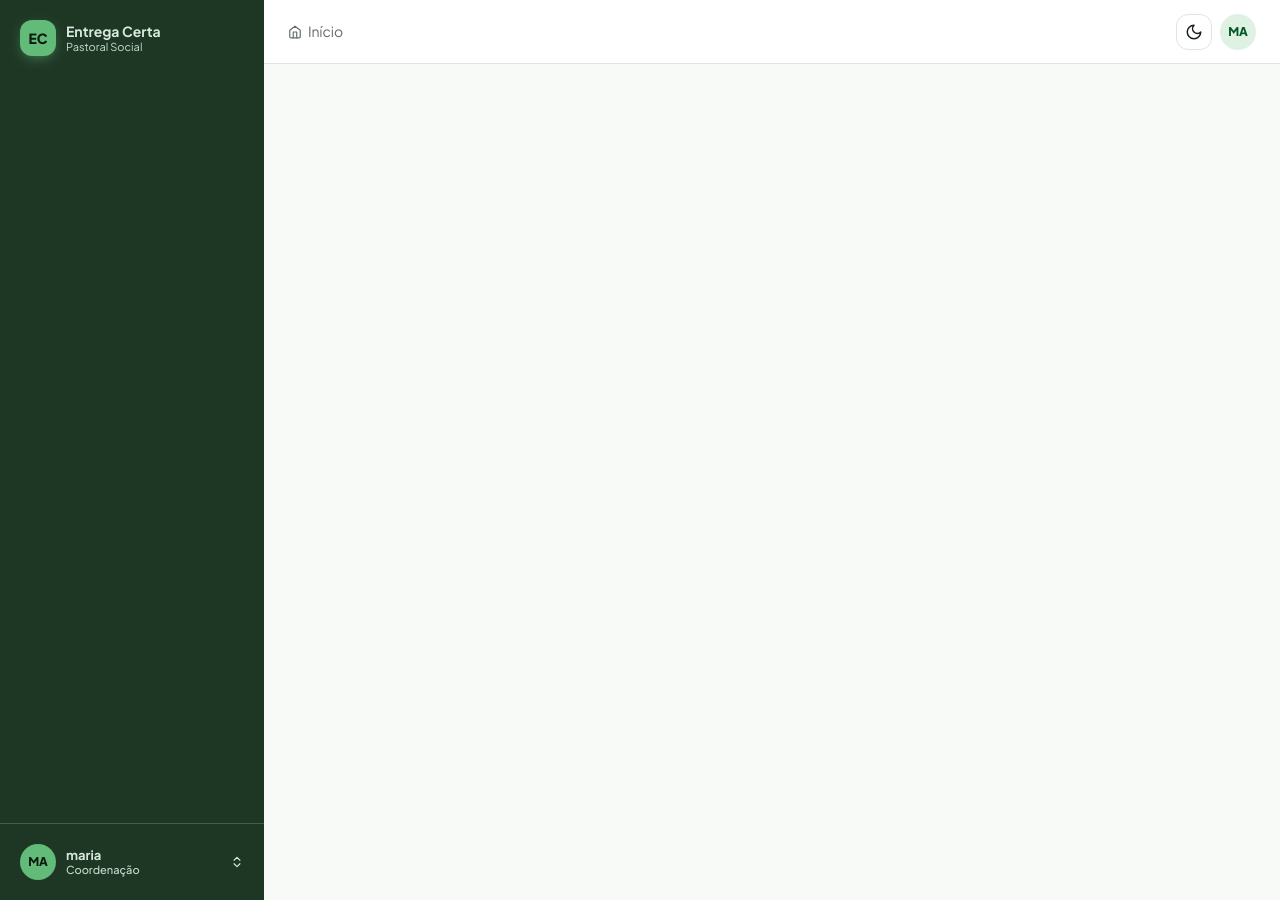
Scenario: menu lateral: visibilidade por permissão › abre o menu do usuário com alterar senha, tema e sair
Click the button with class "shell-user__trigger": (132, 862) [12,836,252,888]
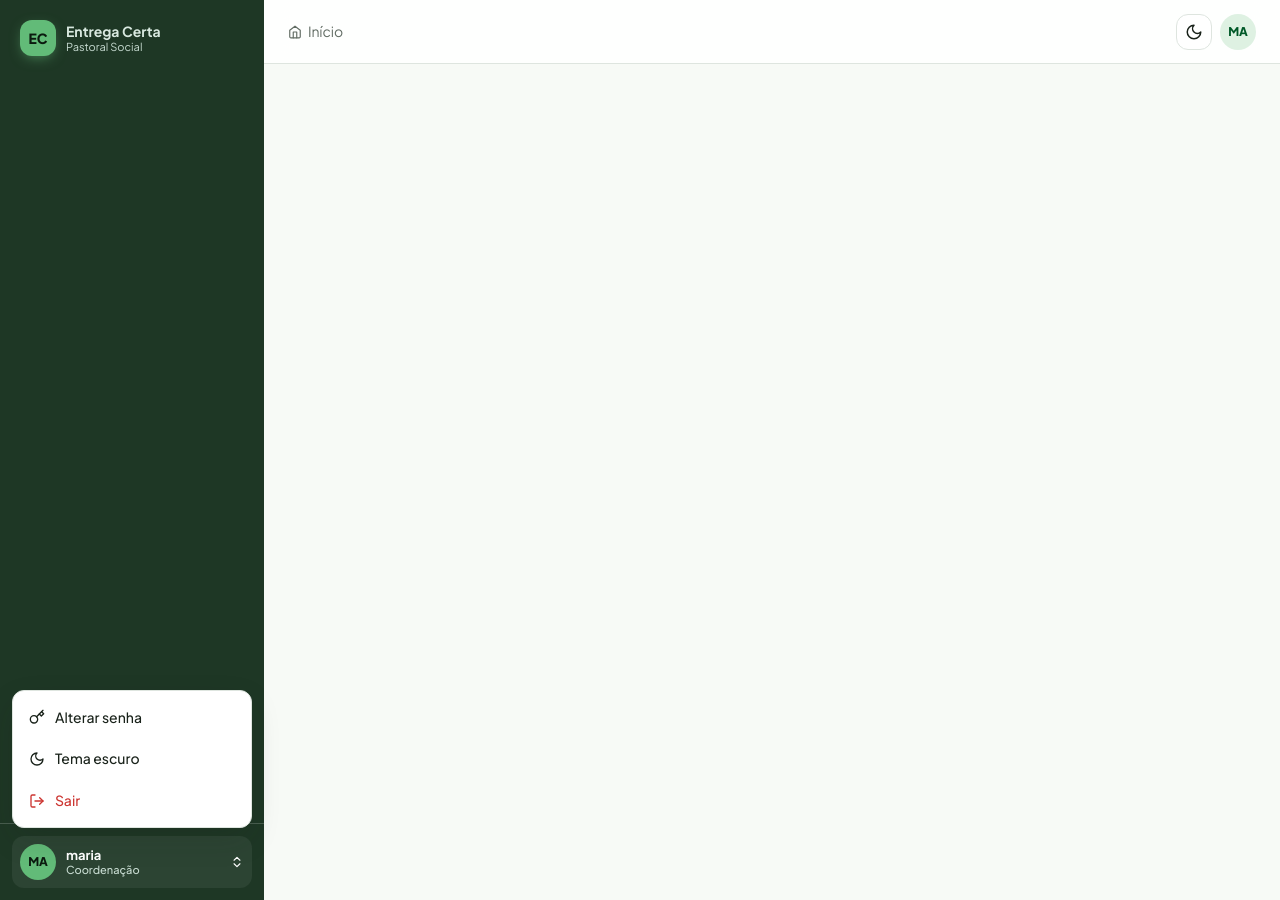
Expected: the menu item with class "shell-user__option" reads "Alterar senha", [29,708,142,726]
Expected: the menu item with class "shell-user__option" reads "Sair", [19,781,245,821]
